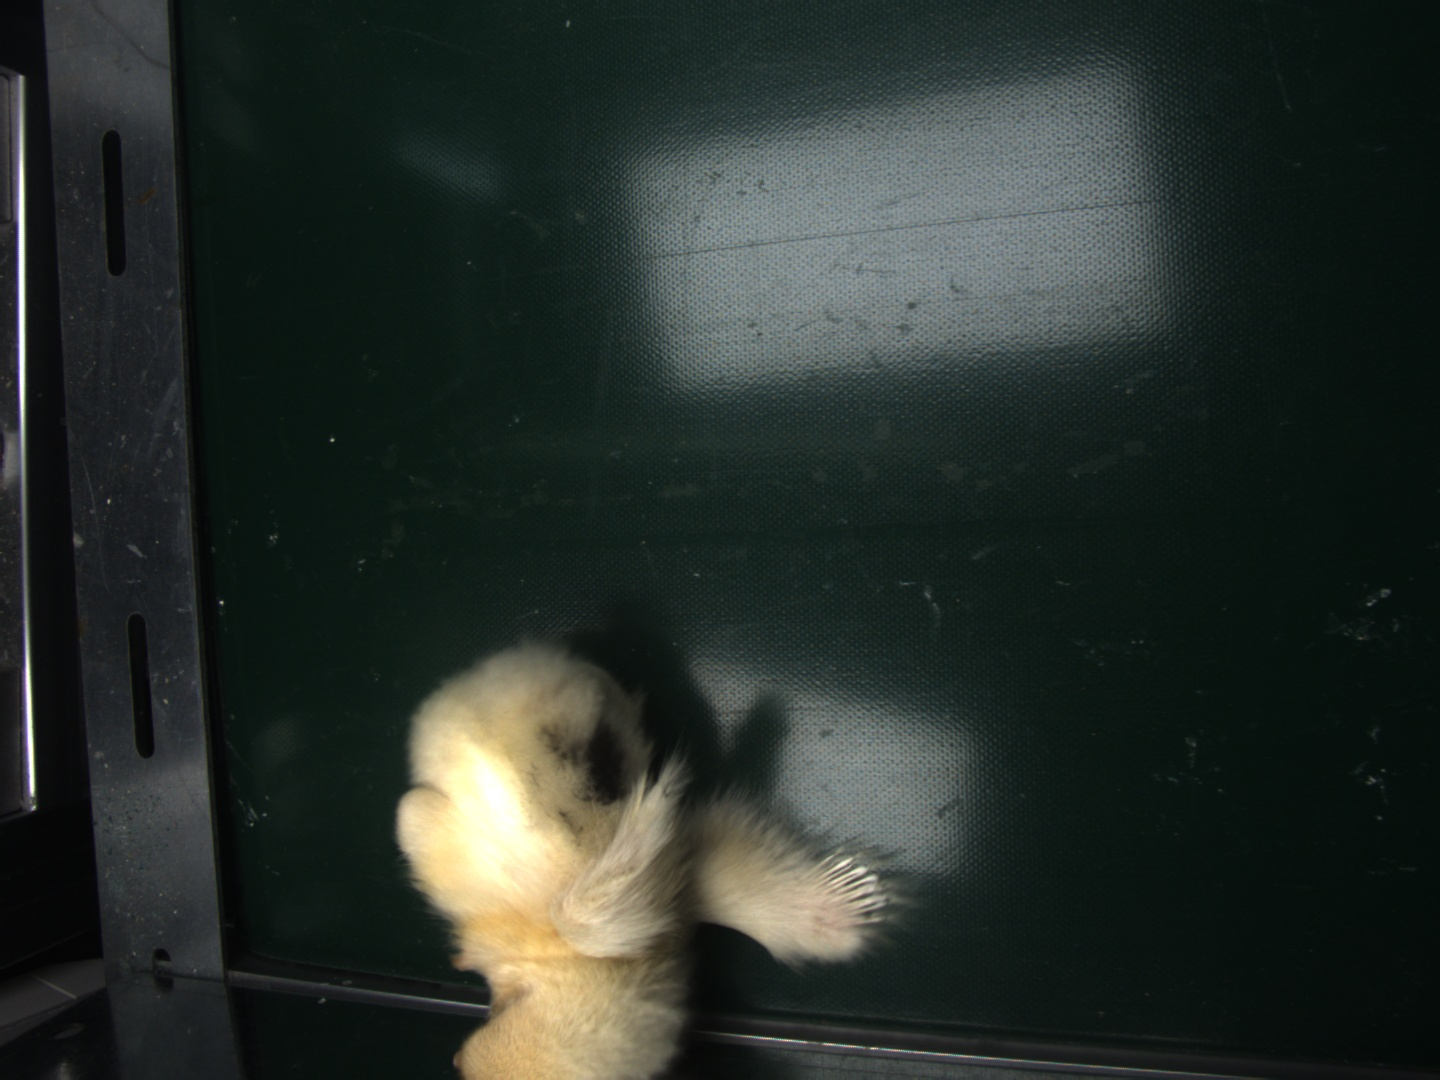male: (808, 847, 892, 933)
